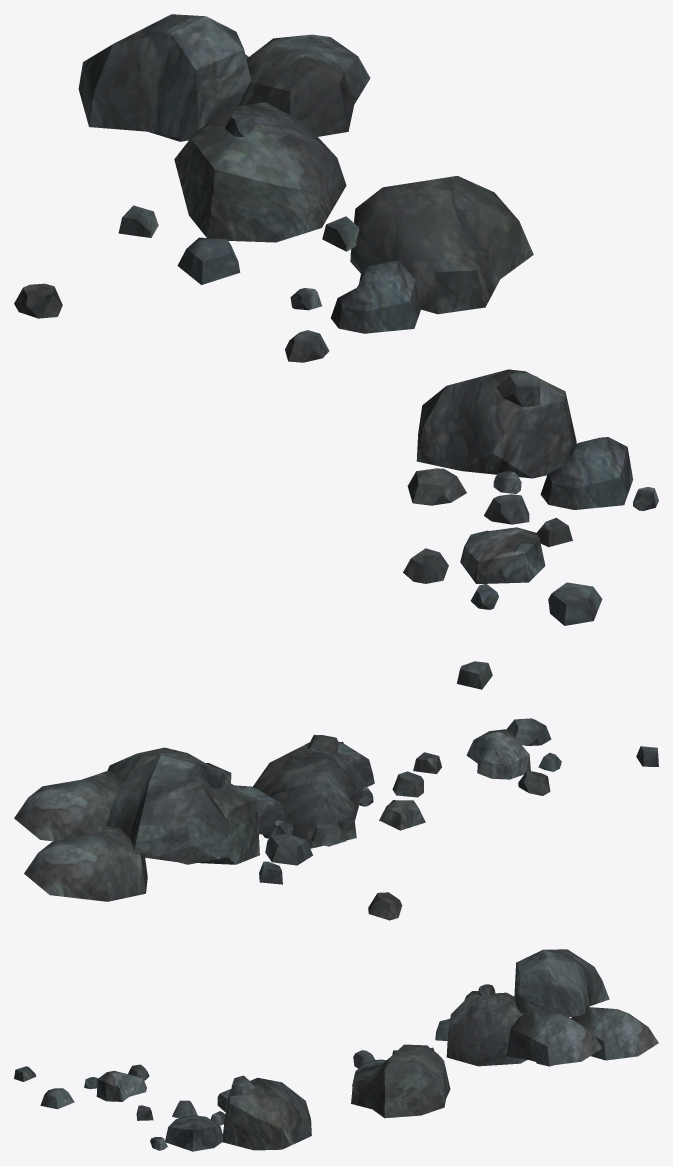
Rendered from object_rubble36.fbx.
3 renders of one model, top to bottom at view 1: azimuth 30°, elevation 25°; view 2: azimuth 150°, elevation 25°; view 3: azimuth 270°, elevation 25°, orthographic. The views are drawn at different scales.
Parts seen in each view (by area): view 1: Material_#238683587/cliffside; view 2: Material_#238683587/cliffside; view 3: Material_#238683587/cliffside.
Boxes of the visible parts, x1,y1,x2,y2 form: Material_#238683587/cliffside: (14,14,658,689); Material_#238683587/cliffside: (14,718,658,920); Material_#238683587/cliffside: (14,949,658,1151).
Size of the model in its own units: 4 by 2.58 by 8.76.
